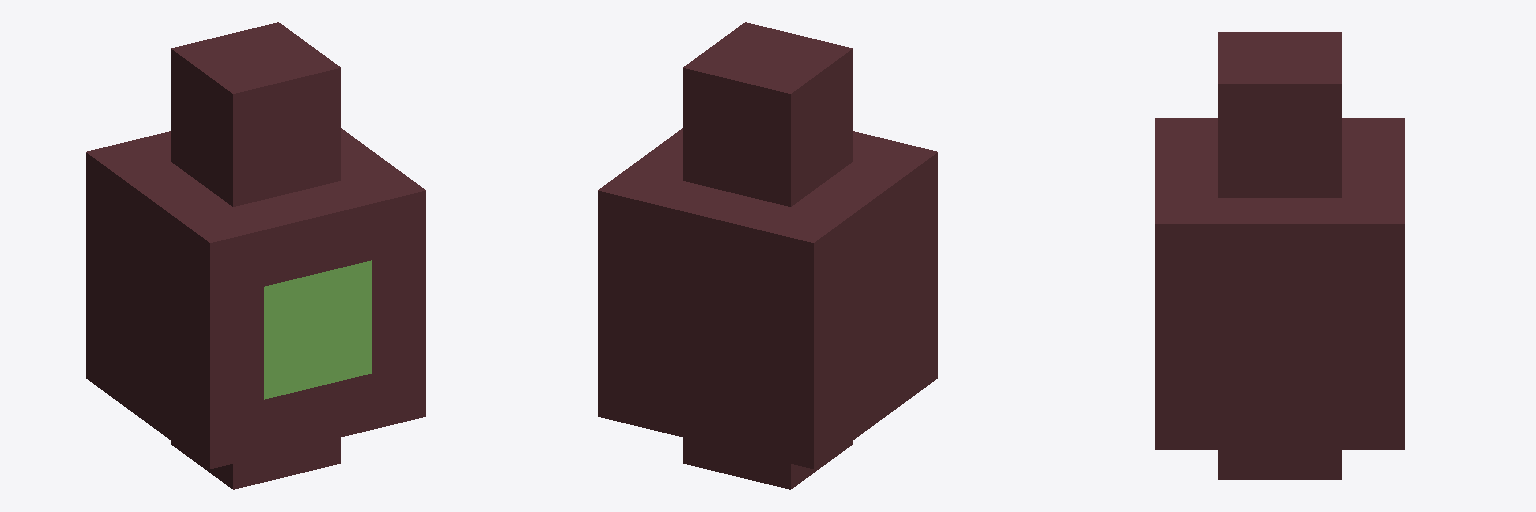
3 views of the same model, side by side, from view 1: azimuth 30°, elevation 25°; view 2: azimuth 150°, elevation 25°; view 3: azimuth 270°, elevation 25° (orthographic).
Visible parts, largest first — view 1: object 1; view 2: object 1; view 3: object 1.
Part boxes in pixels (left/top/right/bottom): object 1: left=86, top=22, right=425, bottom=489; object 1: left=598, top=22, right=937, bottom=489; object 1: left=1155, top=32, right=1404, bottom=479.
Bounding box in the file's own units: 0.4 × 0.7 × 0.4.
Materials: 1 (1 with a texture image).